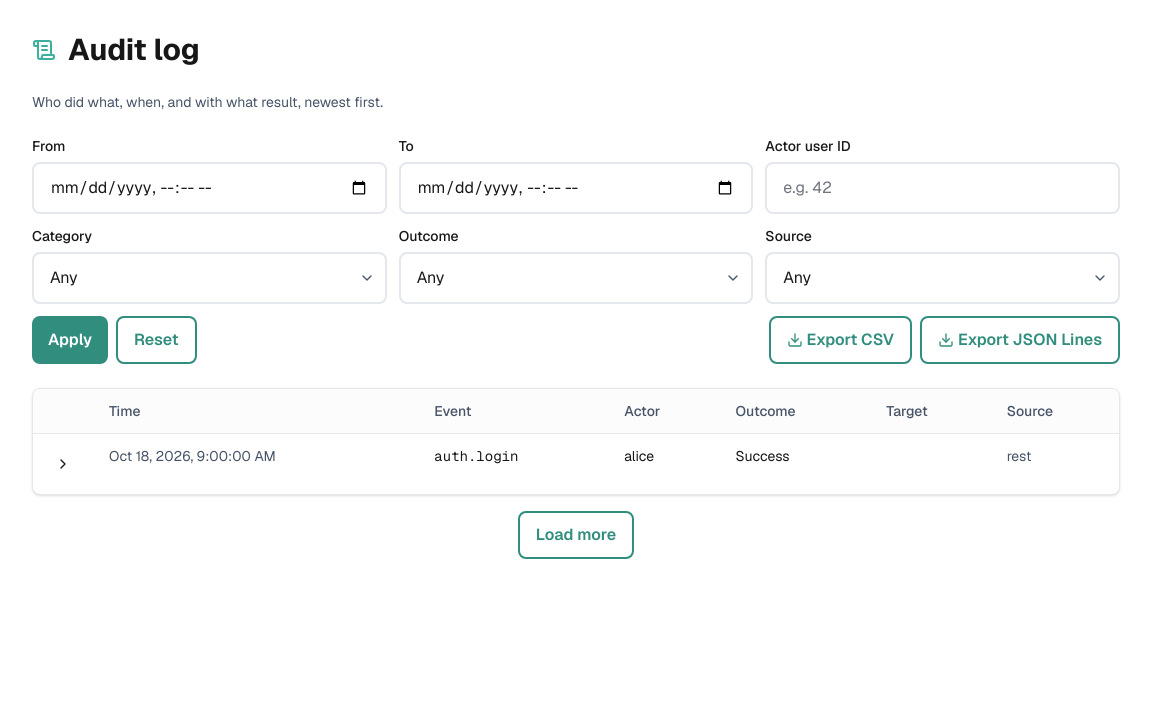
it: AuditLogPage › drops an older page that lands after the filters changed
What coordinates should you click on to do the following:
click the button "Load more"
I would click on:
 (576, 535)
Its box is [518, 511, 634, 559].
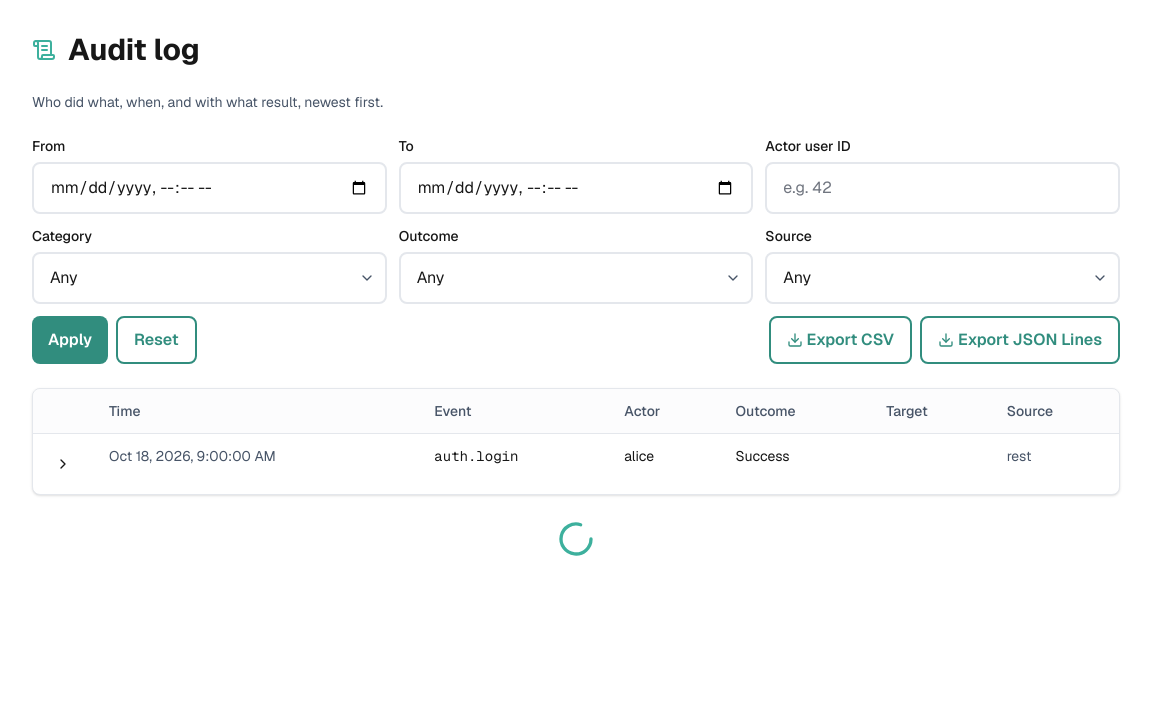
What coordinates should you click on to do the following:
click the button "Apply"
I would click on:
 (70, 340)
Its box is [32, 316, 108, 364].
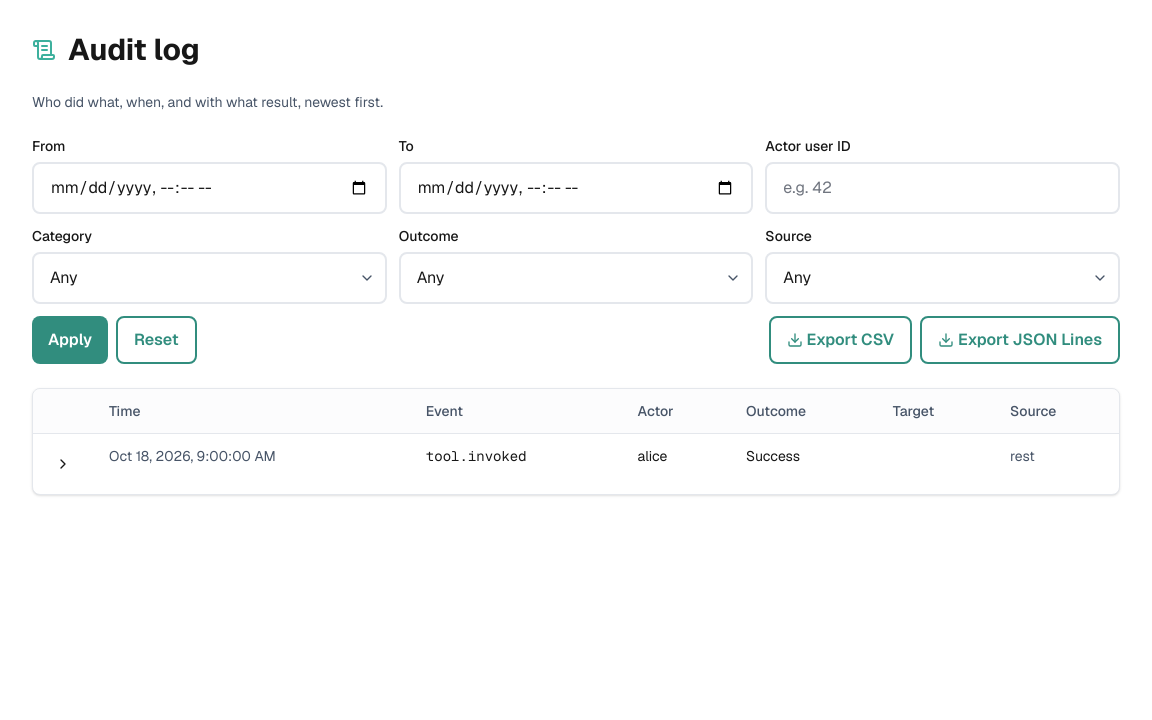
Expected: the button "Load more" is not shown
Expected: the text "tool.invoked" is shown, [410, 434, 622, 494]
Expected: the text "auth.login" is gone
